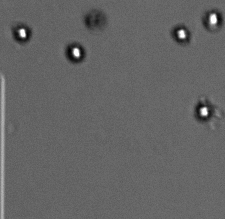Dead Cell: (83, 8, 108, 31)
Living Cell: (204, 9, 222, 31), (195, 100, 213, 121), (66, 43, 85, 62), (12, 24, 30, 43), (172, 25, 190, 44)
